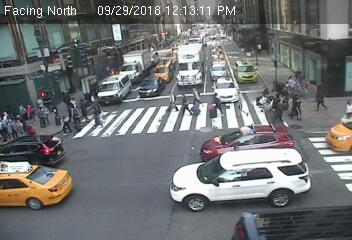car: (171, 151, 312, 207), (228, 211, 352, 239), (1, 163, 74, 209), (200, 126, 294, 156), (1, 136, 67, 164), (119, 50, 154, 83), (177, 43, 202, 87), (97, 75, 132, 104), (326, 119, 352, 154), (234, 59, 259, 85), (214, 78, 239, 104), (139, 76, 165, 97), (153, 59, 173, 83), (210, 63, 229, 83), (209, 53, 229, 67), (187, 33, 206, 46), (209, 41, 225, 53), (208, 32, 227, 39)
